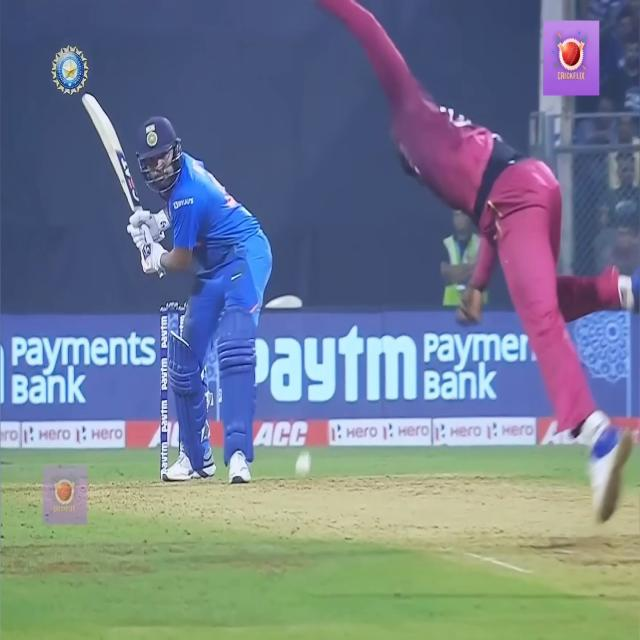partially_visible: (243, 320, 420, 411)
